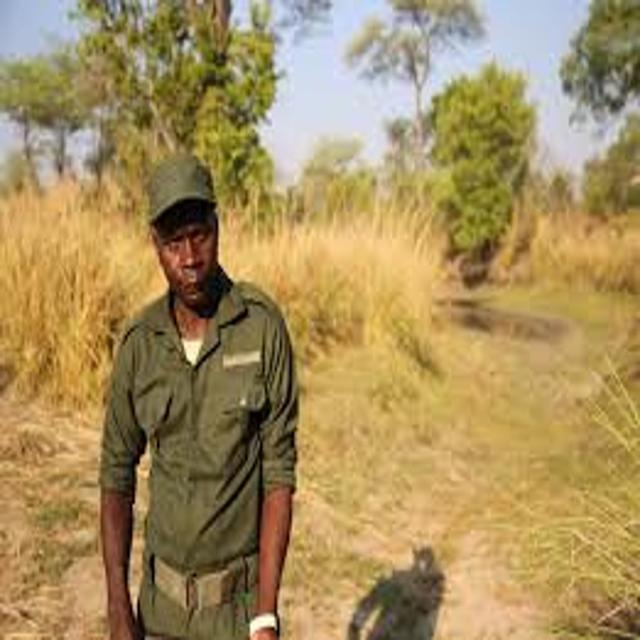poacher: (57, 122, 343, 640)
